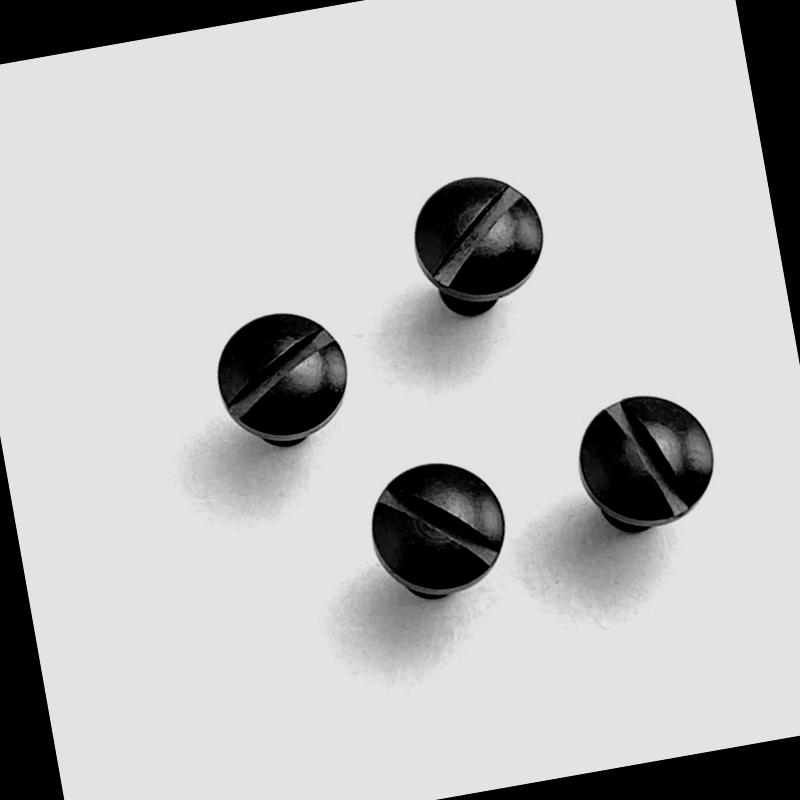slotted: (360, 446, 526, 612), (570, 378, 733, 539), (404, 158, 554, 316), (210, 293, 360, 445)
